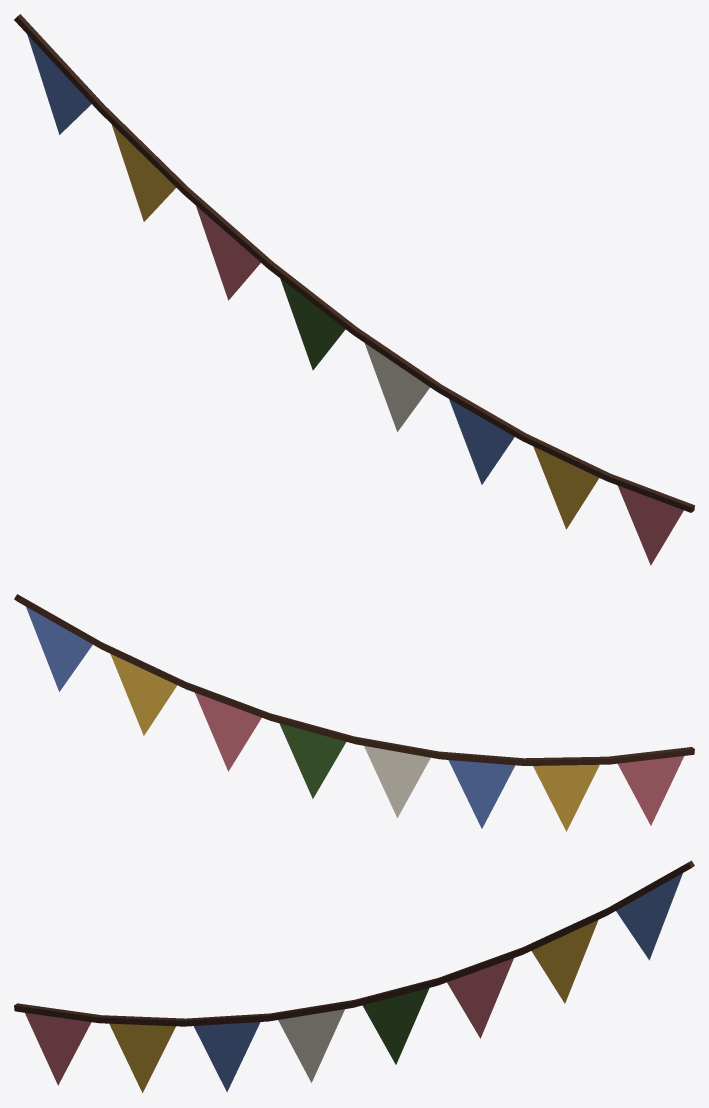
The model's file is scene_bunting_1.glb.
3 views of the same model, one above another, from view 1: azimuth 90°, elevation 25°; view 2: azimuth 150°, elevation 25°; view 3: azimuth 270°, elevation 25° (orthographic). The views are drawn at different scales.
Visible parts, largest first — view 1: scene_bunting_1; view 2: scene_bunting_1; view 3: scene_bunting_1.
Part boxes in pixels (bbox=[...]): scene_bunting_1: bbox=[14, 14, 694, 565]; scene_bunting_1: bbox=[14, 594, 694, 831]; scene_bunting_1: bbox=[14, 860, 694, 1092].
Size of the model in its own units: 1.68 by 1.71 by 2.72.
